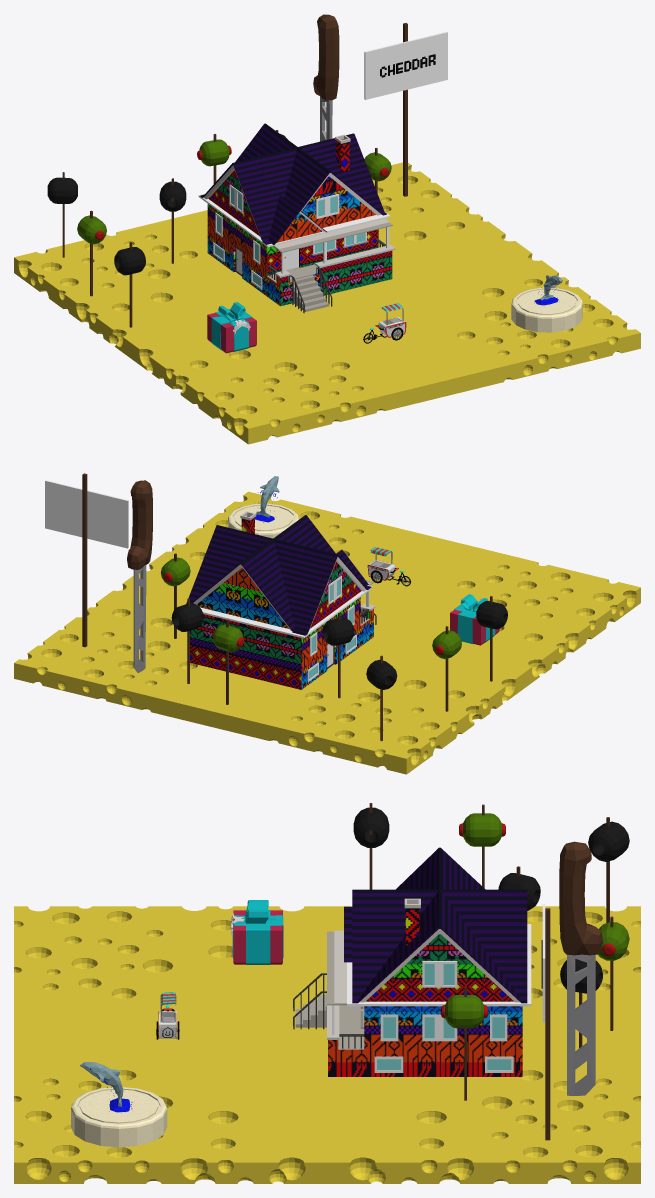
The picture shows the model from 3 angles, top to bottom: view 1: azimuth 30°, elevation 25°; view 2: azimuth 150°, elevation 25°; view 3: azimuth 270°, elevation 25°; orthographic projection. The views are drawn at different scales.
Parts seen in each view (by area): view 1: Cube.022, Cube.966, Cube.023, Cylinder.016, Cube.024, OBJRANDOM_GIANT_PRESENT, Sphere.017, Sphere.016, Sphere.020, Sphere.018, Sphere.022, VEHICLES_SNOWBAL_BIKE (+1 smaller); view 2: Cube.022, Cube.966, Cube.023, Cube.024, OBJRANDOM_GIANT_PRESENT, Cylinder.016, Sphere.017, Sphere.020, Sphere.021, Sphere.016, Sphere.018, Sphere.022 (+3 smaller); view 3: Cube.022, Cube.966, Cube.024, Cylinder.016, OBJRANDOM_GIANT_PRESENT, Cube.023, Sphere.019, Sphere.016, Sphere.018, Sphere.017, Sphere.022, ANIMAL_DELFIN (+3 smaller).
Boxes of the visible parts, box(x1,y1,x2,y2) form: Cube.022: box(14, 162, 640, 444); Cube.966: box(198, 123, 395, 313); Cube.023: box(364, 23, 447, 196); Cylinder.016: box(511, 287, 582, 332); Cube.024: box(313, 14, 339, 141); OBJRANDOM_GIANT_PRESENT: box(207, 302, 256, 353); Sphere.017: box(114, 242, 145, 327); Sphere.016: box(47, 172, 77, 257); Sphere.020: box(159, 178, 186, 263); Sphere.018: box(77, 210, 106, 296); Sphere.022: box(197, 134, 231, 183); VEHICLES_SNOWBAL_BIKE: box(363, 303, 406, 343); Cube.022: box(14, 491, 640, 774); Cube.966: box(185, 511, 376, 689); Cube.023: box(45, 473, 128, 647); Cube.024: box(127, 480, 152, 672); OBJRANDOM_GIANT_PRESENT: box(450, 594, 499, 645); Cylinder.016: box(228, 503, 298, 538); Sphere.017: box(476, 596, 507, 681); Sphere.020: box(322, 612, 354, 698); Sphere.021: box(171, 598, 203, 683); Sphere.016: box(366, 655, 397, 741); Sphere.018: box(432, 626, 461, 711); Sphere.022: box(212, 619, 244, 704); Cube.022: box(14, 906, 640, 1183); Cube.966: box(293, 847, 531, 1076); Cube.024: box(559, 841, 602, 1095); Cylinder.016: box(71, 1087, 167, 1147); OBJRANDOM_GIANT_PRESENT: box(231, 900, 283, 964); Cube.023: box(541, 904, 550, 1140); Sphere.019: box(441, 986, 487, 1100); Sphere.016: box(588, 817, 629, 922); Sphere.018: box(459, 804, 505, 887); Sphere.017: box(353, 803, 389, 889); Sphere.022: box(598, 916, 629, 1030); ANIMAL_DELFIN: box(80, 1062, 132, 1112).
Size of the model in its own units: 3917 by 2010 by 4000.
38 materials, 7 textured.
